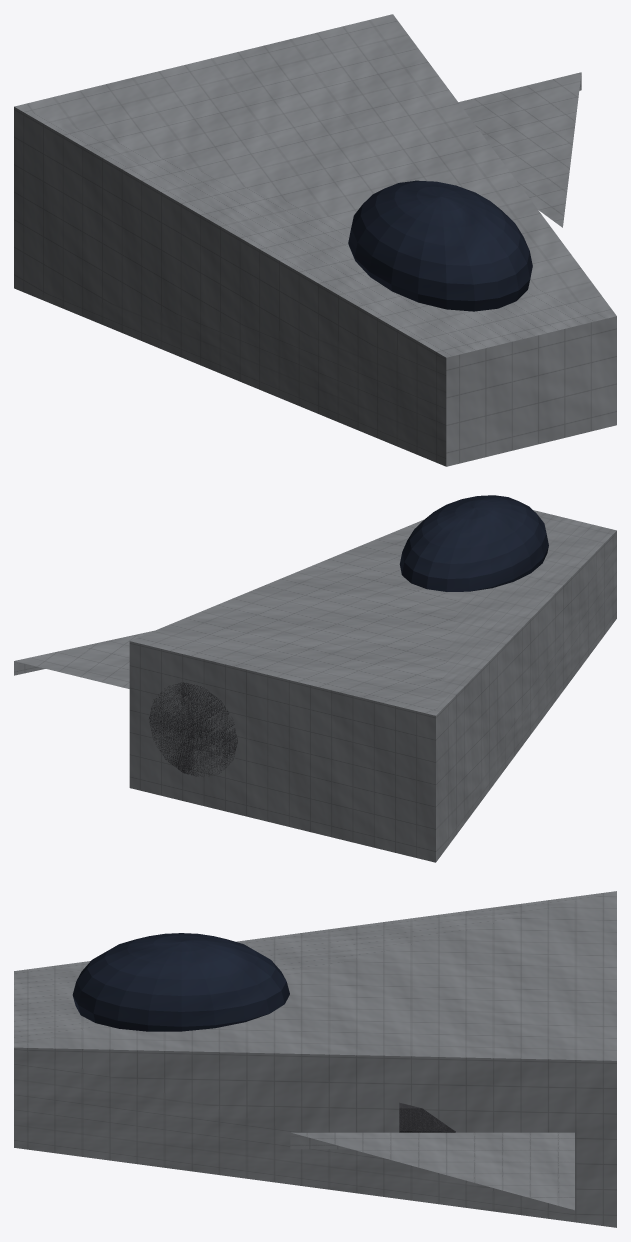
The model's file is bomber.glb.
3 renders of one model, top to bottom at view 1: azimuth 30°, elevation 25°; view 2: azimuth 150°, elevation 25°; view 3: azimuth 270°, elevation 25°, orthographic. The views are drawn at different scales.
Parts seen in each view (by area): view 1: bomber; view 2: bomber; view 3: bomber.
Part boxes in pixels (x1,y1,x2,y2): bomber: (14,14,616,466); bomber: (14,495,616,862); bomber: (14,891,616,1227).
Bounding box in the file's own units: 6.9 × 2.65 × 7.2.
Materials: 3 (3 with a texture image).
